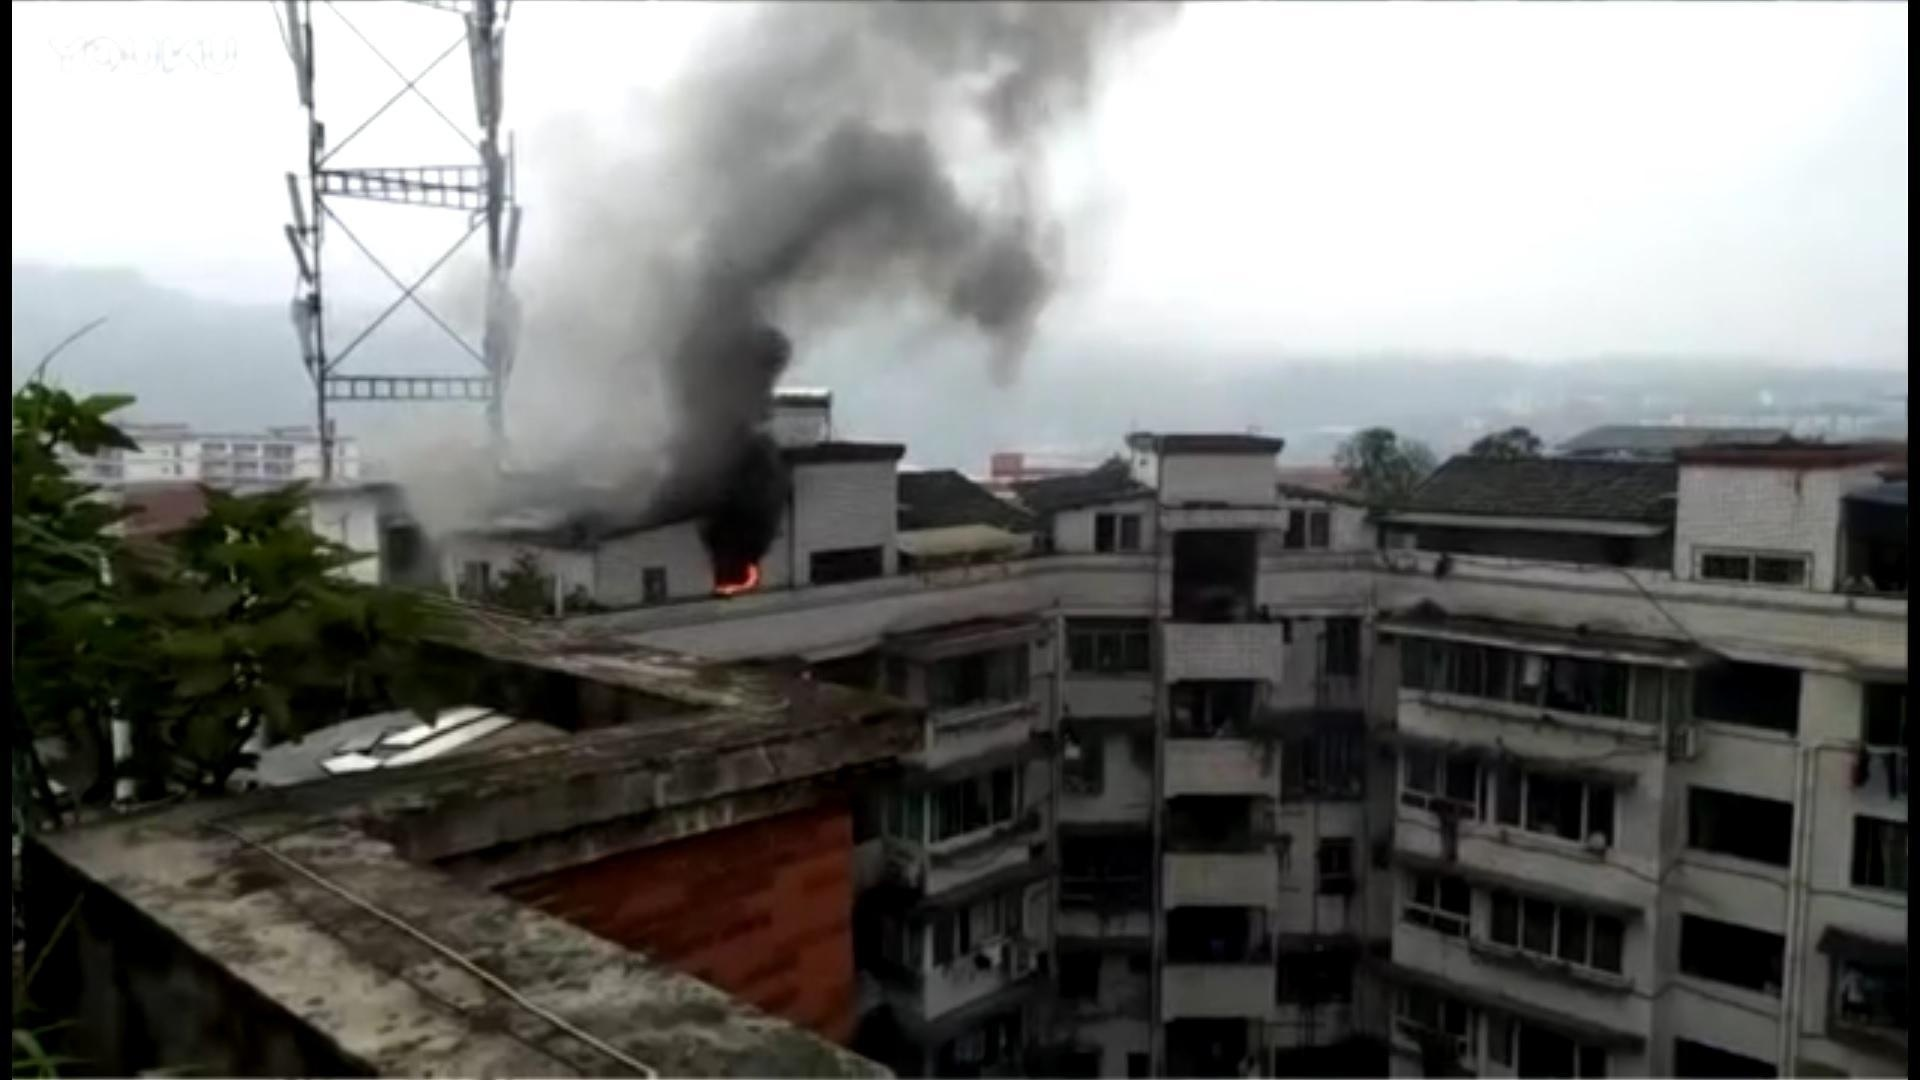fire: (709, 555, 766, 597)
